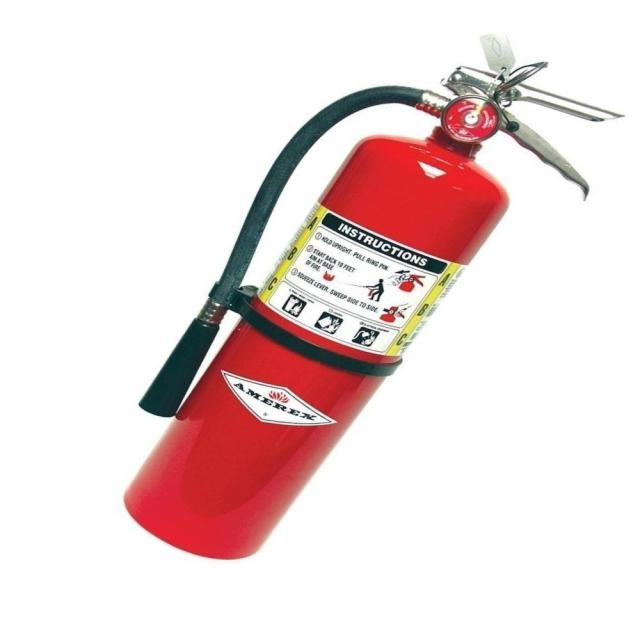fire_extinguisher: (116, 26, 630, 566)
